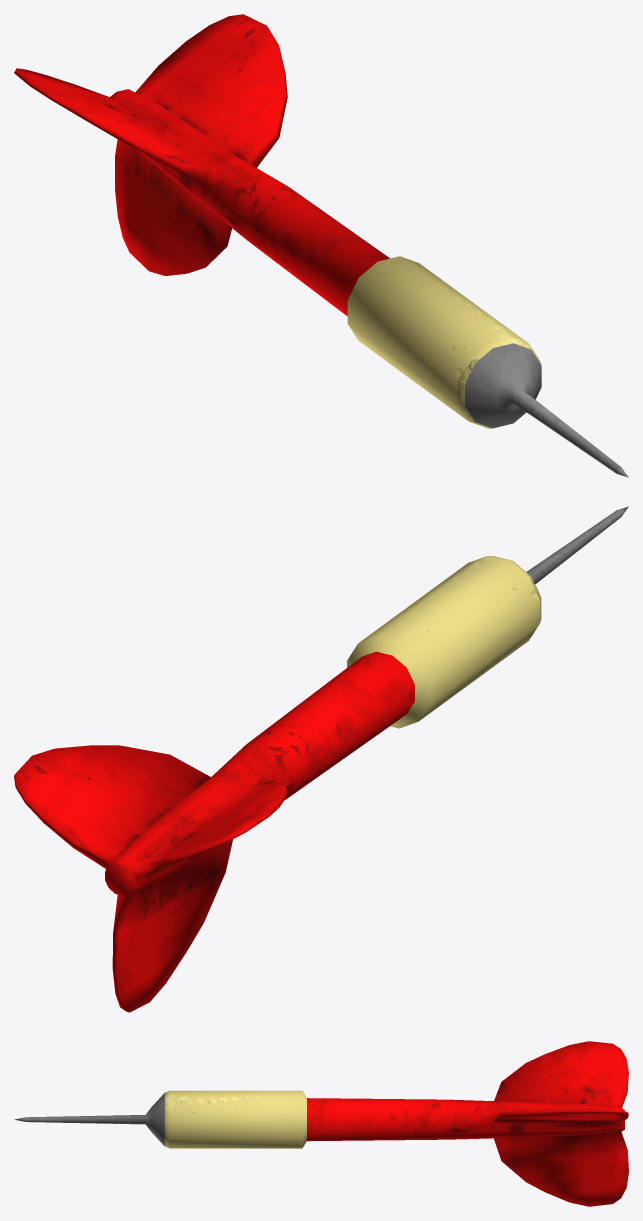
File: Dardo.fbx
3 views of the same model, one above another, from view 1: azimuth 30°, elevation 25°; view 2: azimuth 150°, elevation 25°; view 3: azimuth 270°, elevation 25° (orthographic). The views are drawn at different scales.
Parts seen in each view (by area): view 1: Cylinder; view 2: Cylinder; view 3: Cylinder.
Boxes of the visible parts, x1,y1,x2,y2 form: Cylinder: (14, 14, 628, 477); Cylinder: (14, 506, 628, 1012); Cylinder: (14, 1041, 628, 1206).
Bounding box in the file's own units: 21.37 × 18.62 × 79.57.
Materials: 1 (1 with a texture image).
